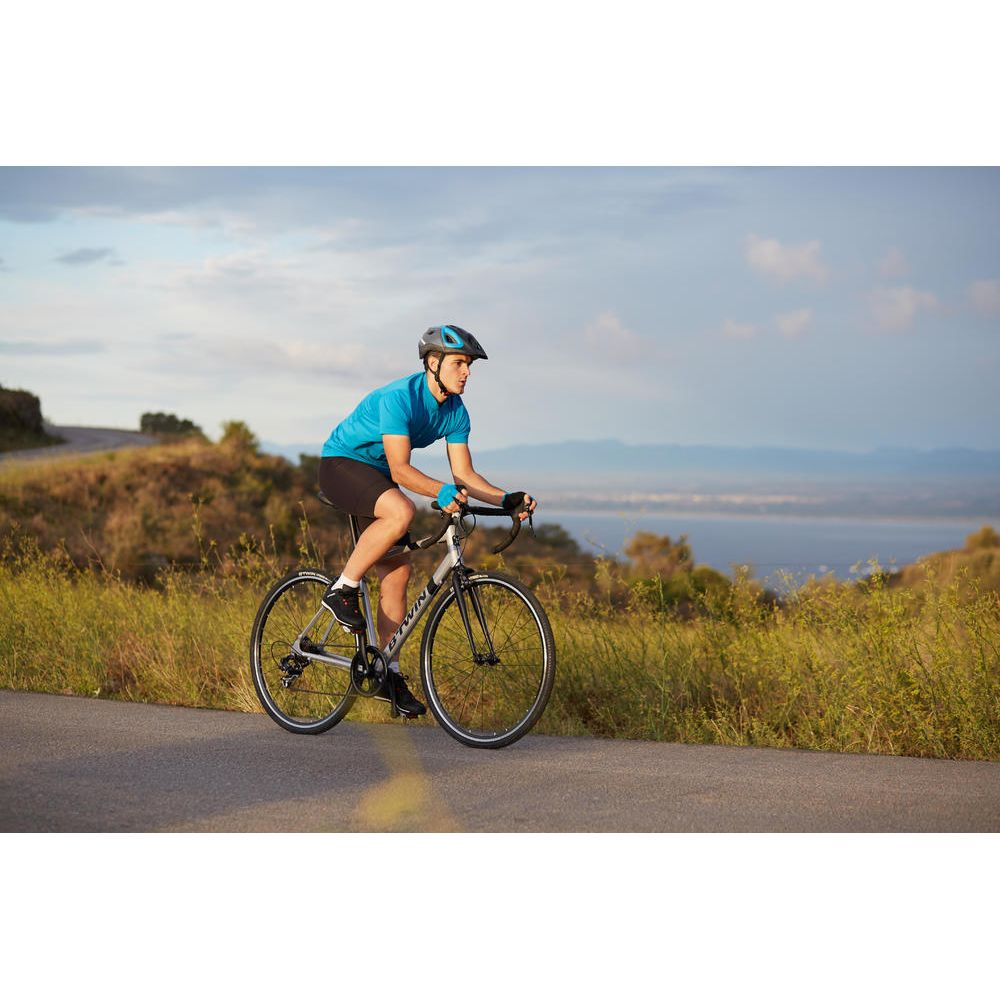RoadBike: (66, 253, 926, 764)
